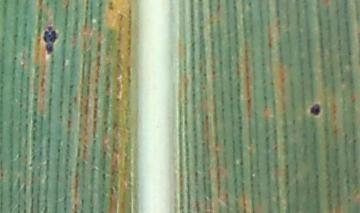tarspot: (43, 26, 57, 55), (310, 103, 321, 116)
